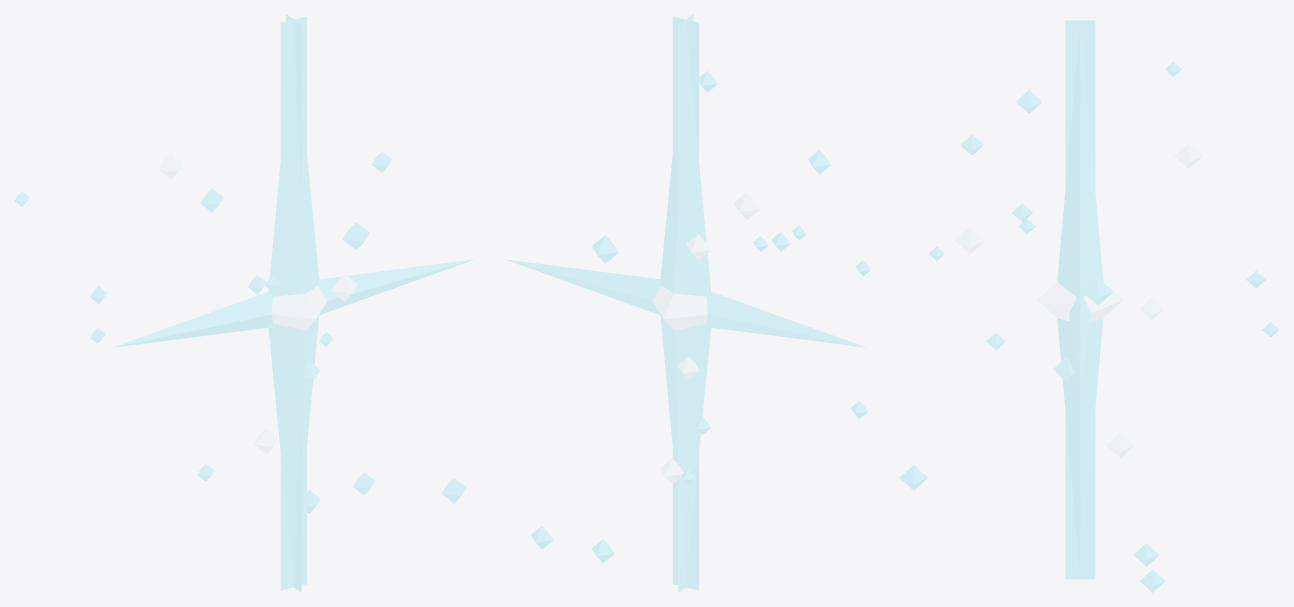
File: Star_02_D5.glb
3 views of the same model, side by side, from view 1: azimuth 30°, elevation 25°; view 2: azimuth 150°, elevation 25°; view 3: azimuth 270°, elevation 25° (orthographic).
Parts seen in each view (by area): view 1: Star_02_D5; view 2: Star_02_D5; view 3: Star_02_D5.
Part boxes in pixels (x1,y1,x2,y2): Star_02_D5: (14,14,474,592); Star_02_D5: (505,14,870,592); Star_02_D5: (899,20,1279,592).
Size of the model in its own units: 0.0272 by 0.0356 by 0.0219.
